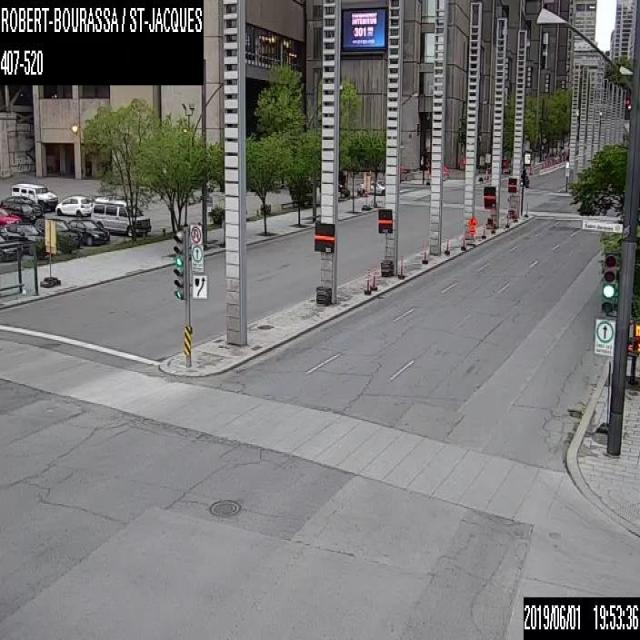construction: (466, 216, 476, 233), (364, 275, 371, 295), (370, 273, 375, 292), (445, 237, 450, 252), (399, 263, 403, 276), (506, 213, 509, 226), (482, 223, 485, 236), (423, 247, 426, 260), (525, 202, 528, 214), (491, 220, 494, 231), (514, 209, 517, 219), (461, 235, 464, 245)
vehicle: (91, 196, 150, 237), (34, 216, 80, 249), (0, 222, 44, 253), (11, 182, 58, 210), (66, 218, 110, 244), (0, 195, 43, 220), (54, 194, 90, 215), (356, 177, 386, 195), (0, 234, 21, 258), (0, 206, 22, 225), (520, 173, 528, 186)
